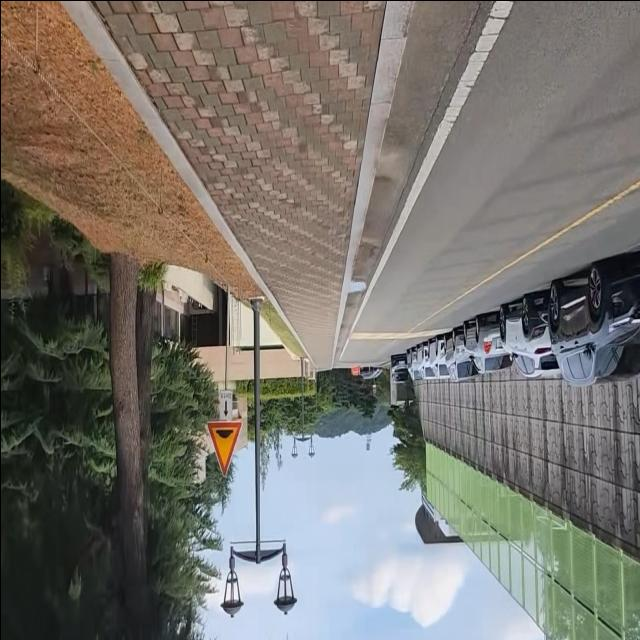road: (334, 0, 640, 362)
sidewalk: (62, 0, 409, 364)
